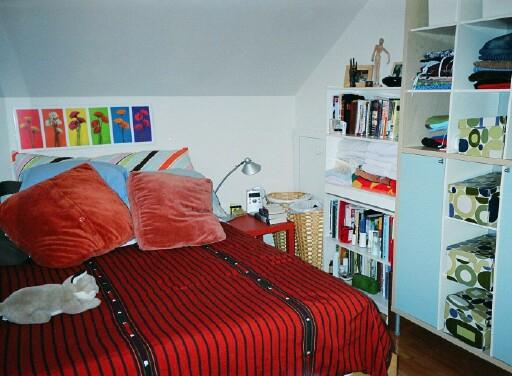Cama: (2, 147, 393, 371)
